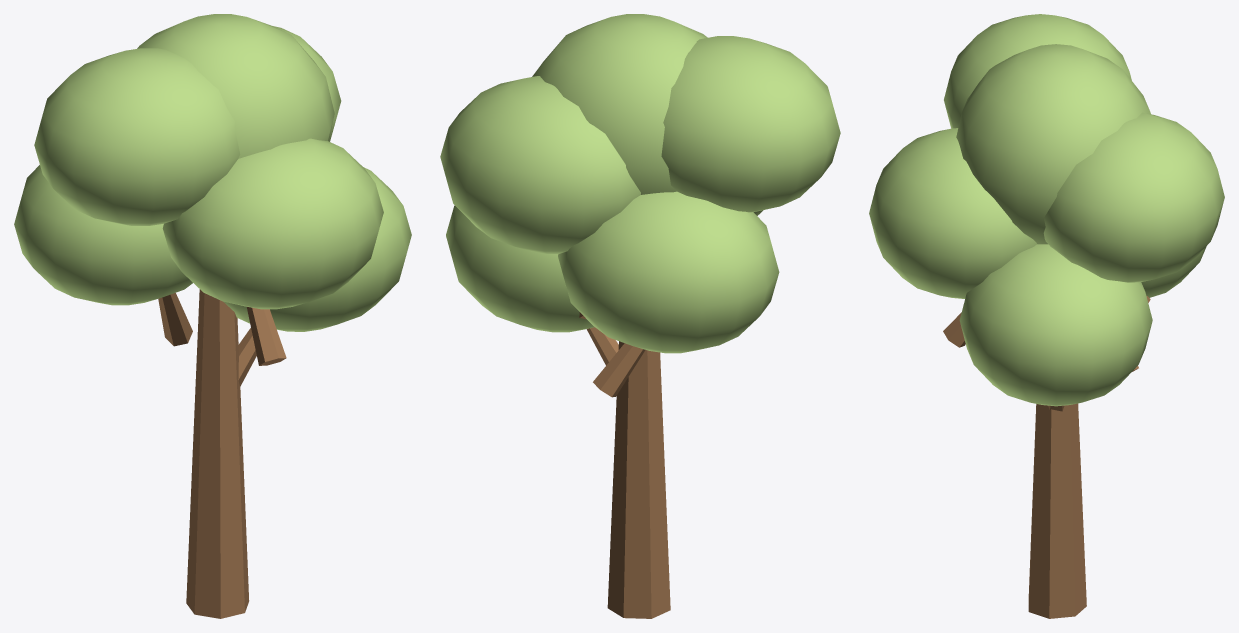
Rendered from tree_1.glb.
3 views of the same model, side by side, from view 1: azimuth 30°, elevation 25°; view 2: azimuth 150°, elevation 25°; view 3: azimuth 270°, elevation 25° (orthographic). The views are drawn at different scales.
Parts seen in each view (by area): view 1: Canopy.009, Canopy.007, Trunk.001, Crown.001, Canopy.006, Canopy.005, Branch.007, Branch.006, Canopy.008, Branch.005; view 2: Canopy.006, Canopy.009, Canopy.008, Crown.001, Trunk.001, Canopy.005, Branch.006, Branch.005; view 3: Canopy.005, Canopy.008, Crown.001, Canopy.007, Trunk.001, Canopy.009, Canopy.006.
Boxes of the visible parts, x1,y1,x2,y2 form: Canopy.009: (34, 48, 240, 225); Canopy.007: (162, 138, 383, 309); Trunk.001: (186, 289, 249, 618); Crown.001: (137, 14, 334, 158); Canopy.006: (14, 165, 192, 305); Canopy.005: (223, 167, 411, 331); Branch.007: (247, 307, 286, 365); Branch.006: (158, 293, 192, 346); Canopy.008: (273, 26, 341, 141); Branch.005: (238, 328, 256, 386); Canopy.006: (558, 191, 779, 353); Canopy.009: (661, 36, 840, 212); Canopy.008: (440, 76, 640, 253); Crown.001: (532, 14, 707, 194); Trunk.001: (607, 341, 670, 618); Canopy.005: (446, 205, 594, 332); Branch.006: (593, 343, 645, 397); Branch.005: (586, 327, 618, 365); Canopy.005: (959, 244, 1152, 406); Canopy.008: (1043, 112, 1224, 282); Crown.001: (956, 44, 1150, 244); Canopy.007: (869, 128, 1036, 298); Trunk.001: (1028, 403, 1086, 618); Canopy.009: (944, 14, 1131, 128); Canopy.006: (1141, 246, 1206, 297).
Bounding box in the file's own units: 3.49 × 5.35 × 3.13.
